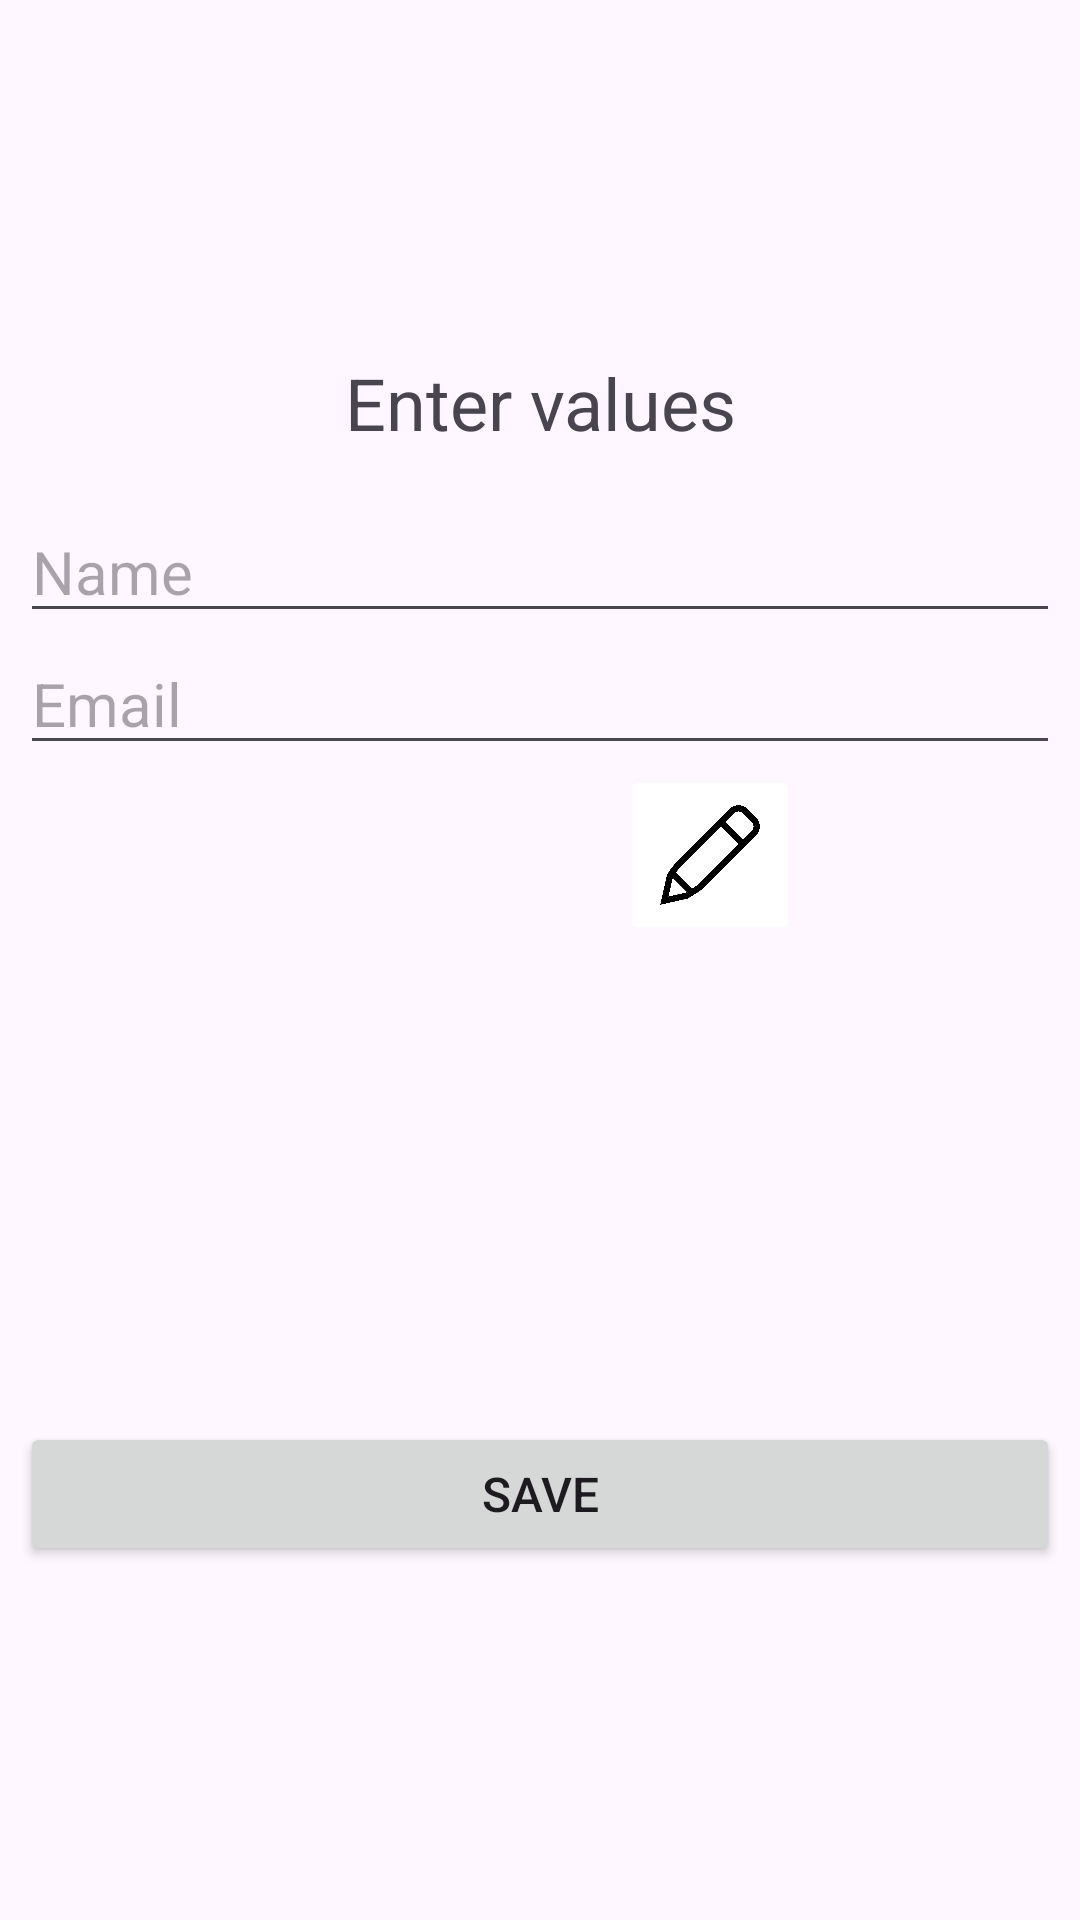

Named icons in this screenshot (1080*1920) and their centers, [x,y]:
pen: [710,855]
